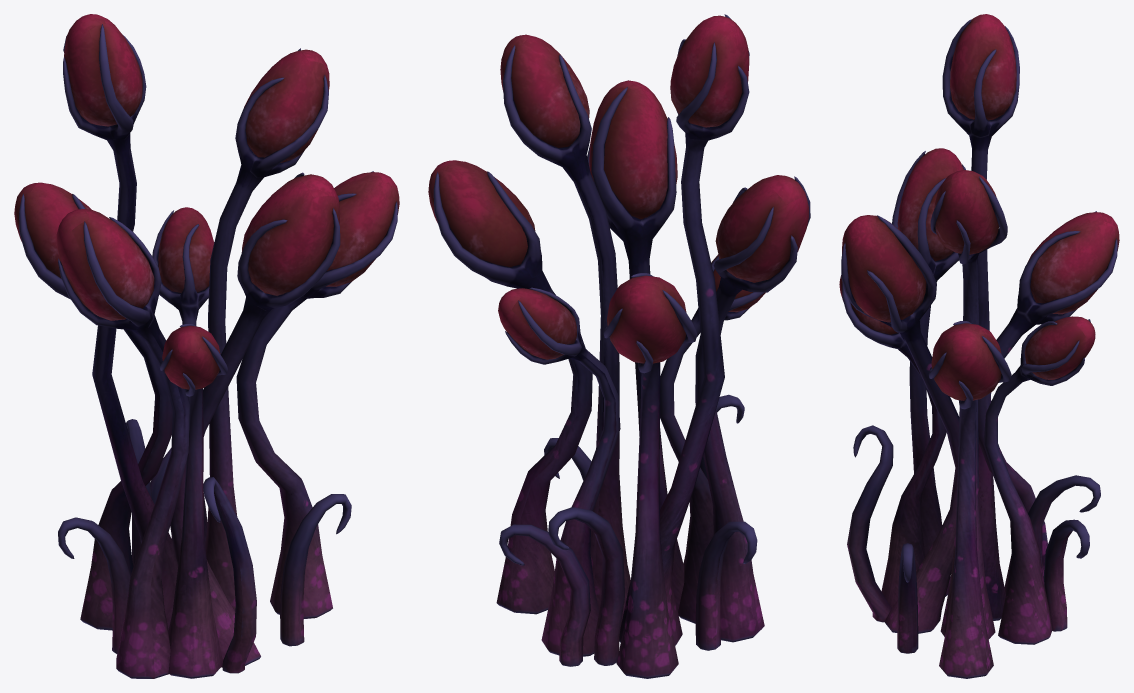
File: Alien_plant_01_FBX.fbx
The picture shows the model from 3 angles, left to right: view 1: azimuth 30°, elevation 25°; view 2: azimuth 150°, elevation 25°; view 3: azimuth 270°, elevation 25°; orthographic projection. The views are drawn at different scales.
Visible parts, largest first — view 1: Alien_plant_01_poly; view 2: Alien_plant_01_poly; view 3: Alien_plant_01_poly.
Part boxes in pixels (bbox=[...]): Alien_plant_01_poly: bbox=[14, 14, 399, 678]; Alien_plant_01_poly: bbox=[428, 14, 810, 678]; Alien_plant_01_poly: bbox=[839, 14, 1119, 678].
Size of the model in its own units: 22.52 by 38.91 by 17.42.
